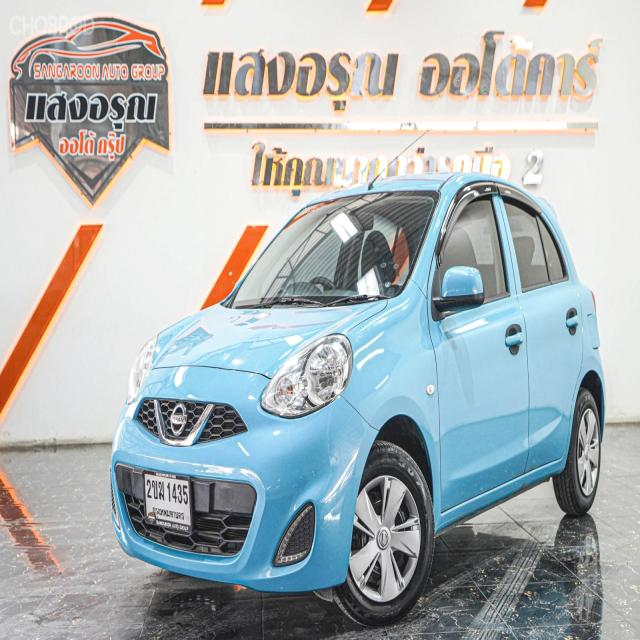license_plate: (143, 462, 196, 544)
